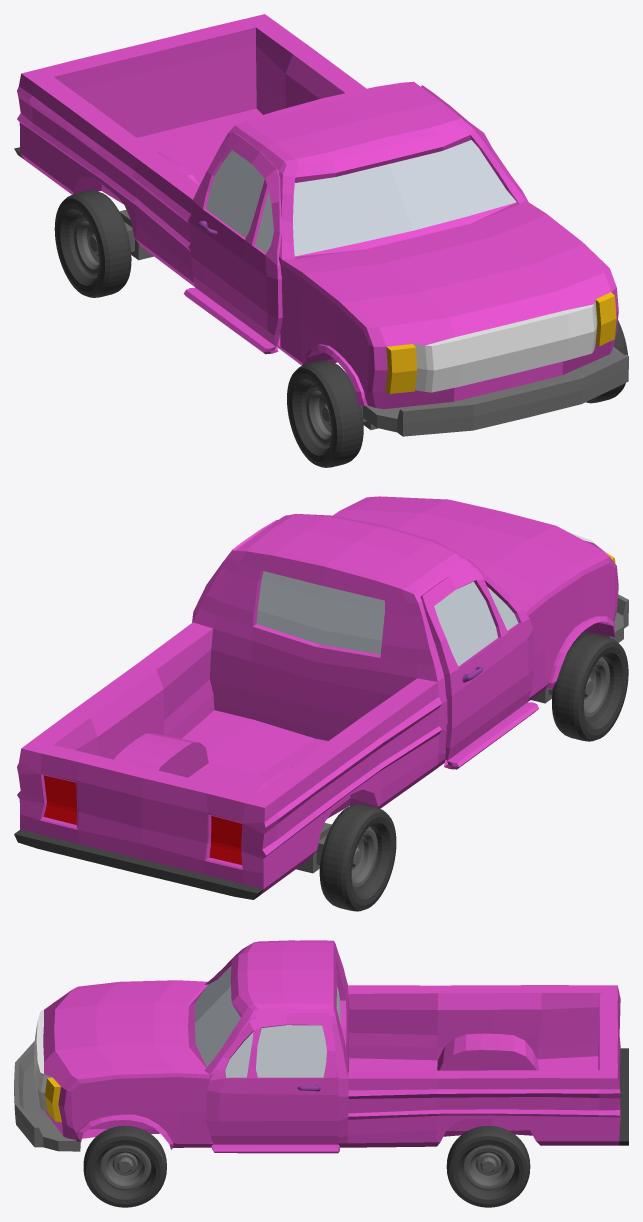
File: PickupTruckB.fbx
3 renders of one model, top to bottom at view 1: azimuth 30°, elevation 25°; view 2: azimuth 150°, elevation 25°; view 3: azimuth 270°, elevation 25°, orthographic. The views are drawn at different scales.
Parts seen in each view (by area): view 1: Body, Door, FrontWheels.001, FrontWheels.002, FrontWheelAxelInt.001, FrontWheelAxelInt.002; view 2: Body, Door, FrontWheels.002, FrontWheels.001, FrontWheelAxelInt.002, FrontWheelAxelInt.001; view 3: Body, Door, FrontWheels.002, FrontWheels.001, FrontWheelAxelInt.001, FrontWheelAxelInt.002.
Boxes of the visible parts, x1,y1,x2,y2 form: Body: (14,14,628,436); Door: (183,85,528,354); FrontWheels.001: (287,320,627,467); FrontWheels.002: (54,190,131,297); FrontWheelAxelInt.001: (305,383,331,446); FrontWheelAxelInt.002: (73,213,99,276); Body: (14,496,628,899); Door: (192,520,538,769); FrontWheels.002: (319,804,396,911); FrontWheels.001: (552,634,628,741); FrontWheelAxelInt.002: (351,827,377,890); FrontWheelAxelInt.001: (583,657,609,720); Body: (14,940,628,1151); Door: (205,940,339,1153); FrontWheels.002: (446,1126,530,1207); FrontWheels.001: (83,1126,166,1207); FrontWheelAxelInt.001: (99,1145,151,1190); FrontWheelAxelInt.002: (462,1145,514,1190).
Size of the model in its own units: 193 by 148 by 447.
